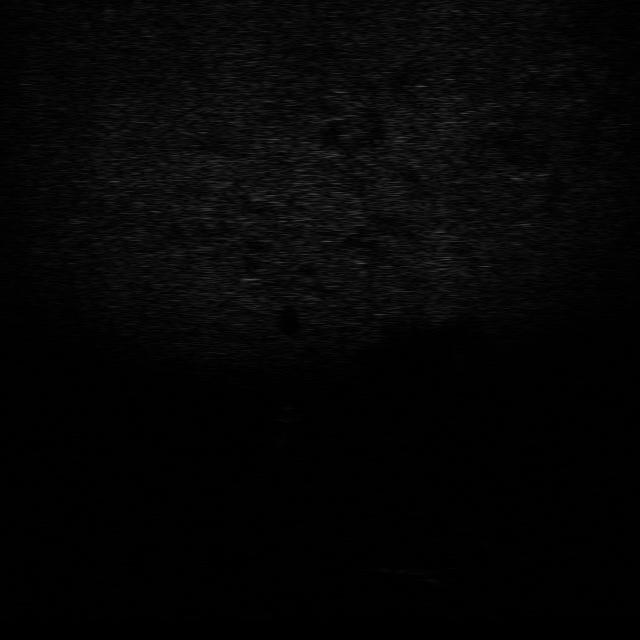ball: (270, 403, 304, 424)
metal bucket: (368, 560, 448, 593)
tyre: (441, 519, 500, 555)
